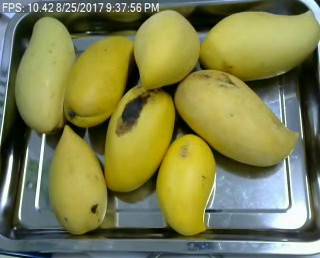Mango: (166, 67, 301, 179), (198, 7, 316, 77), (43, 123, 112, 239), (103, 86, 178, 192), (61, 33, 140, 124), (155, 126, 218, 240), (18, 13, 77, 131), (128, 7, 202, 91)
